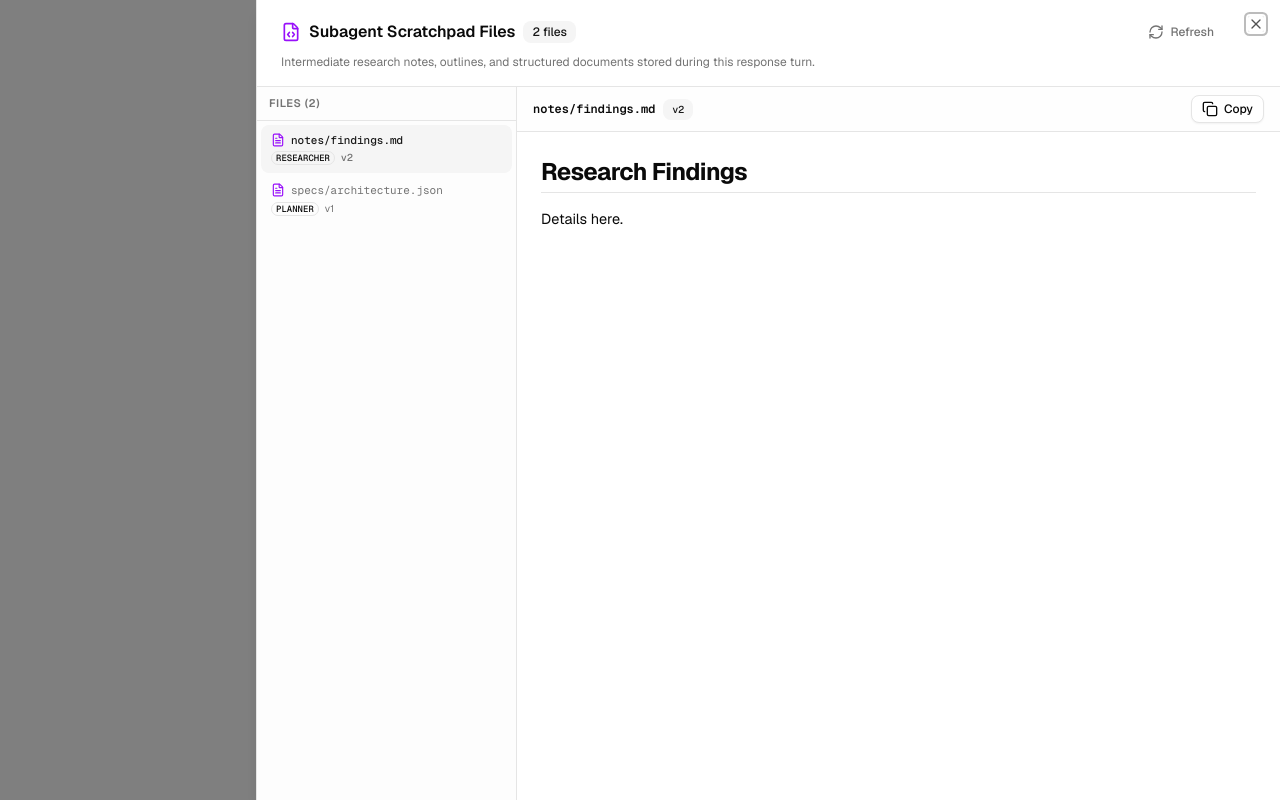
Test: ScratchpadViewerModal › switches active file preview when another file is clicked
Step 1. Click the text "specs/architecture.json" → click(367, 191), box [291,183,443,198]
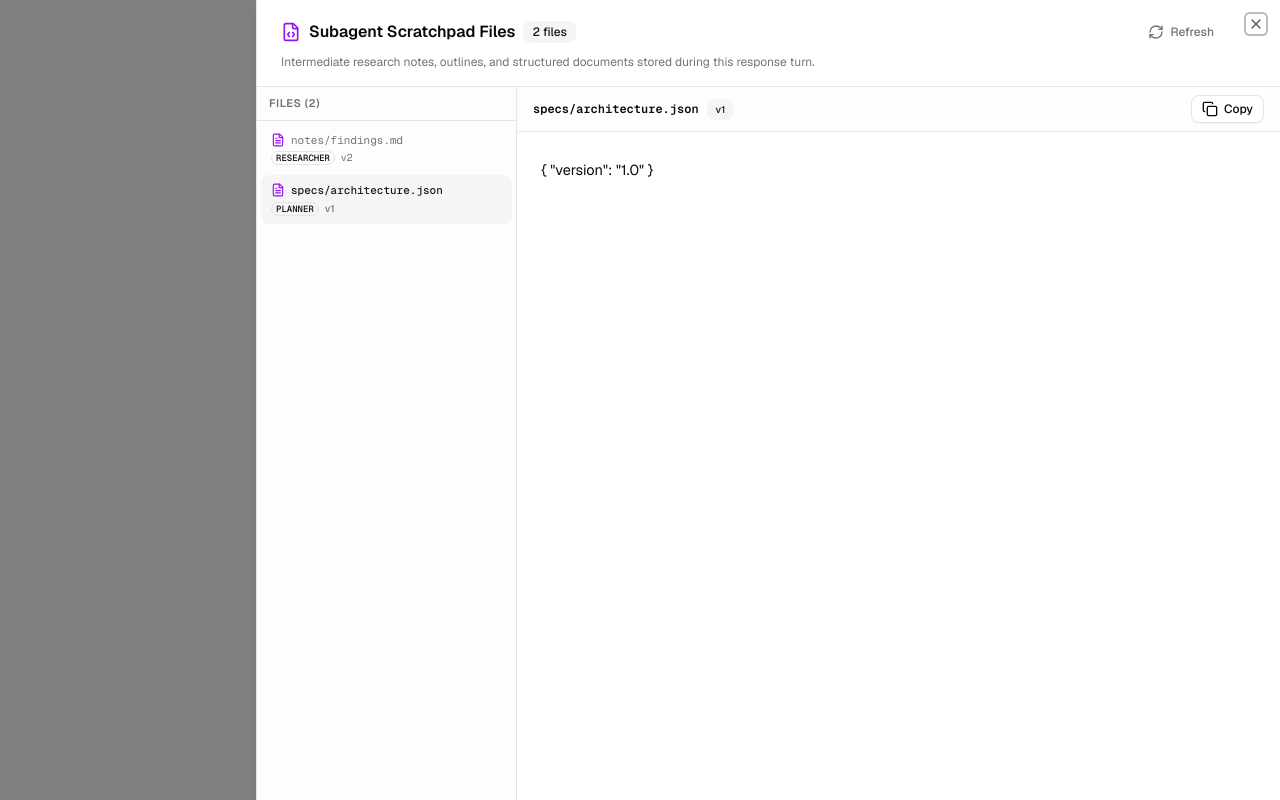
Expected: the text "{ \"version\": \"1.0\" }" is shown, [541,160,653,179]
